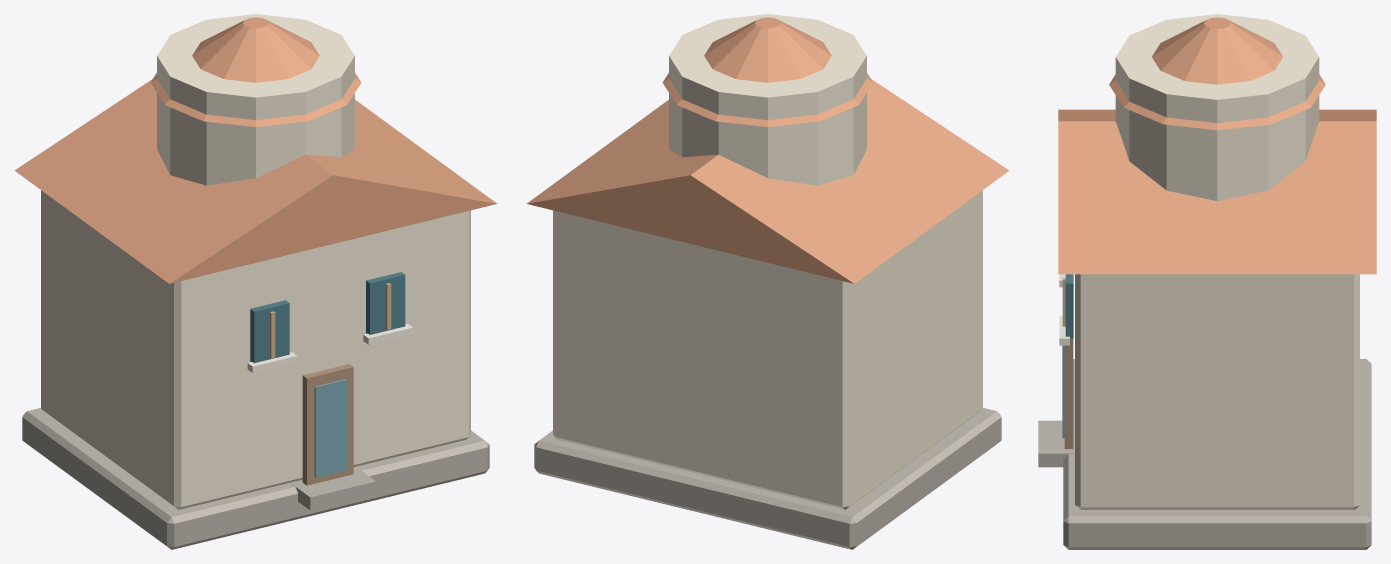
File: chart_house_cupola_near-7kdx6hFh.glb
The picture shows the model from 3 angles, left to right: view 1: azimuth 30°, elevation 25°; view 2: azimuth 150°, elevation 25°; view 3: azimuth 270°, elevation 25°; orthographic projection. The views are drawn at different scales.
Visible parts, largest first — view 1: chart_house_cupola_near; view 2: chart_house_cupola_near; view 3: chart_house_cupola_near.
Part boxes in pixels (<box>): chart_house_cupola_near: <box>14,14,497,549</box>; chart_house_cupola_near: <box>526,14,1009,549</box>; chart_house_cupola_near: <box>1038,14,1376,549</box>.
Bounding box in the file's own units: 5.75 × 7.29 × 4.99.
